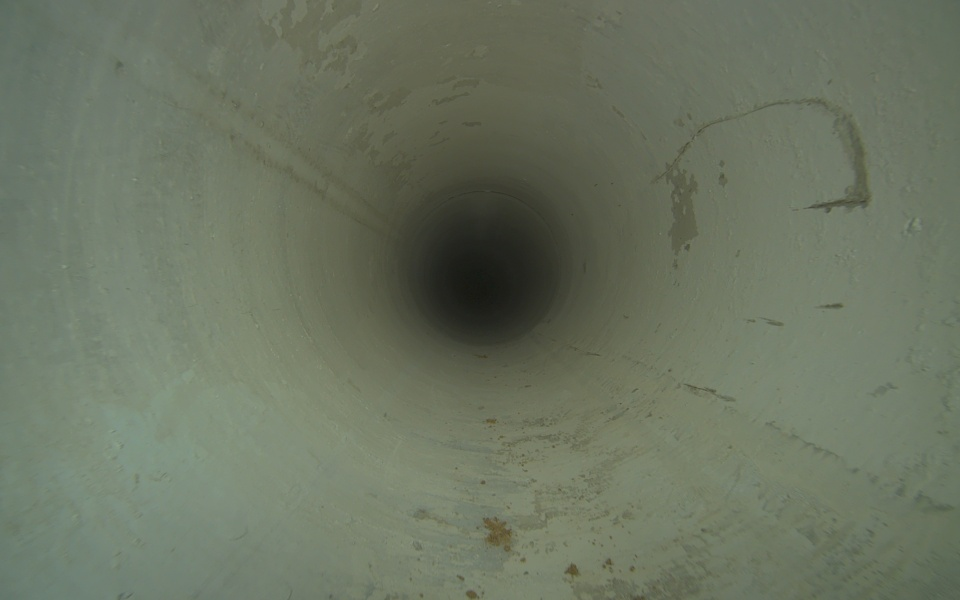circle1: (404, 187, 565, 351)
circle2: (454, 256, 504, 309)
